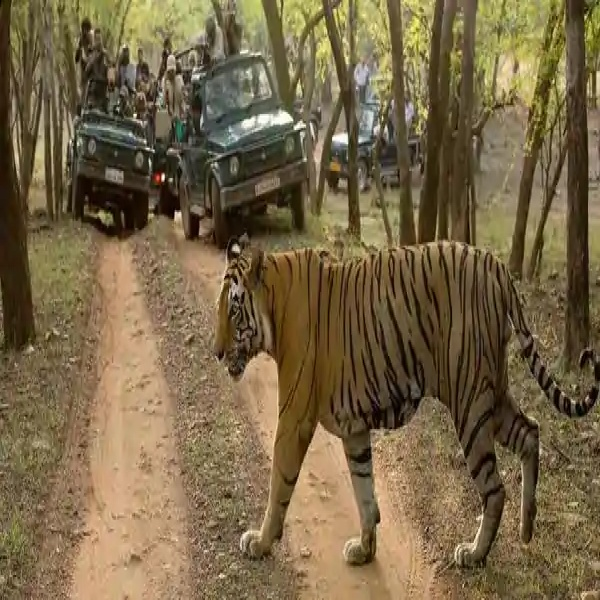Tiger: (211, 229, 600, 573)
